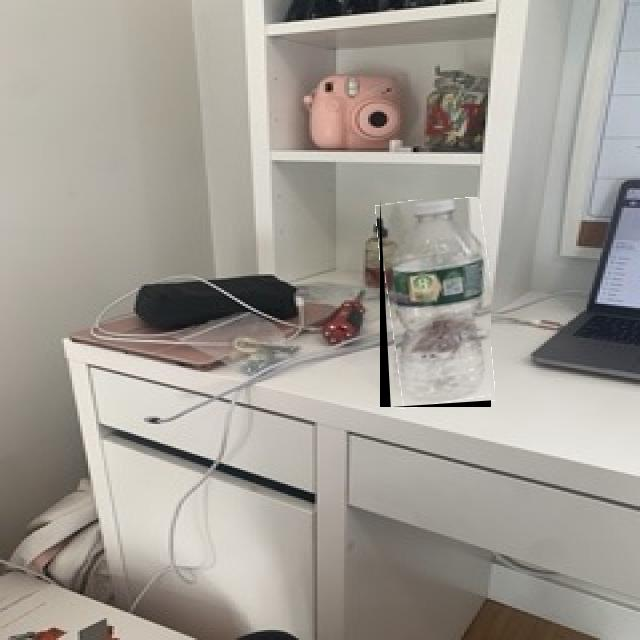water_bottle: (380, 199, 491, 407)
